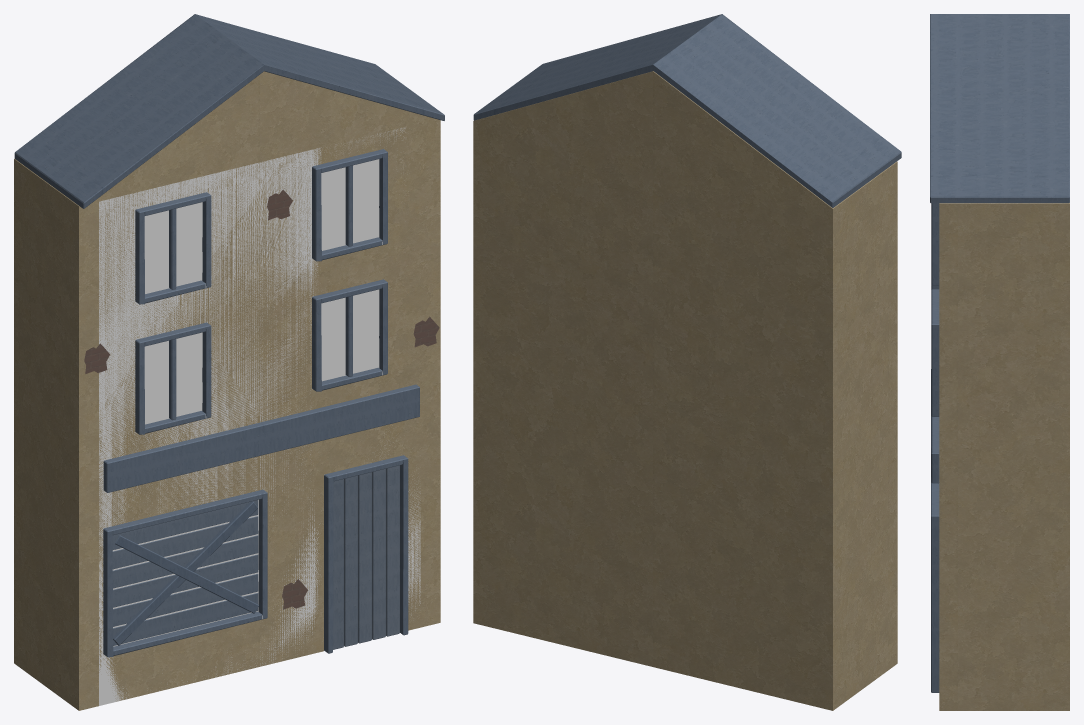
Rendered from env-facade-c.glb.
3 renders of one model, left to right at view 1: azimuth 30°, elevation 25°; view 2: azimuth 150°, elevation 25°; view 3: azimuth 270°, elevation 25°, orthographic.
Visible parts, largest first — view 1: VIS_plaster, VIS_joinery, COL_wall, VIS_brick; view 2: VIS_plaster, VIS_joinery; view 3: VIS_plaster, VIS_joinery.
Part boxes in pixels (<box>): VIS_plaster: <box>14,71,440,710</box>; VIS_joinery: <box>14,14,444,657</box>; COL_wall: <box>99,127,420,705</box>; VIS_brick: <box>84,190,439,609</box>; VIS_plaster: <box>473,71,897,710</box>; VIS_joinery: <box>473,14,901,207</box>; VIS_plaster: <box>939,203,1069,710</box>; VIS_joinery: <box>930,14,1069,692</box>.
Bounding box in the file's own units: 4.5 × 7.2 × 1.5.
3 materials, 3 textured.
